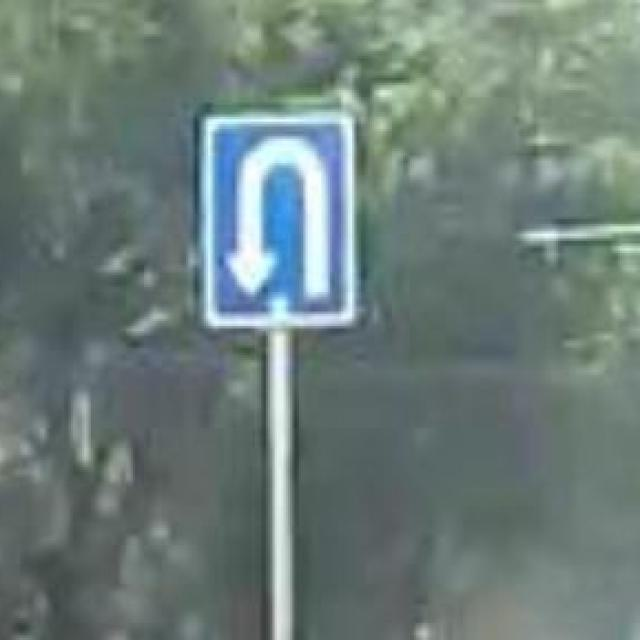U-turn: (201, 111, 353, 327)
